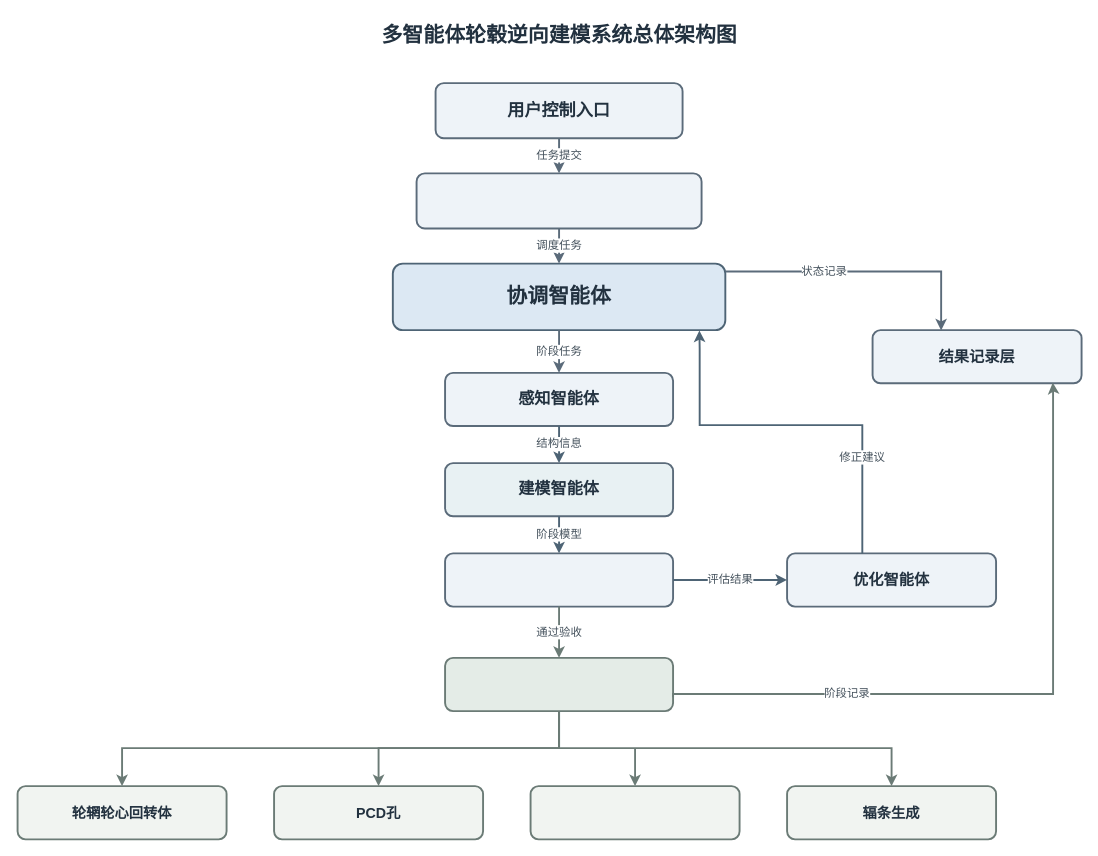
Some shapes in this 1098 by 856 pixel diagram are drawn without their labels. The shapes that lost their labels are listed below. From the top down, each one's box as (x1, y1, x2, y2) in pixels, then its label:
(415, 172, 702, 229): 运行时调度模块
(444, 552, 674, 607): 评估智能体
(444, 656, 674, 712): 阶段产物
(529, 785, 740, 840): 轮心非孔特征
